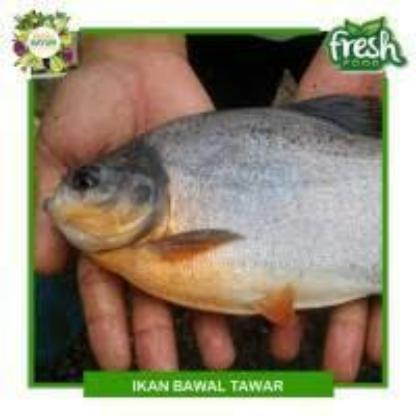ikan-pacu: (50, 98, 385, 314)
